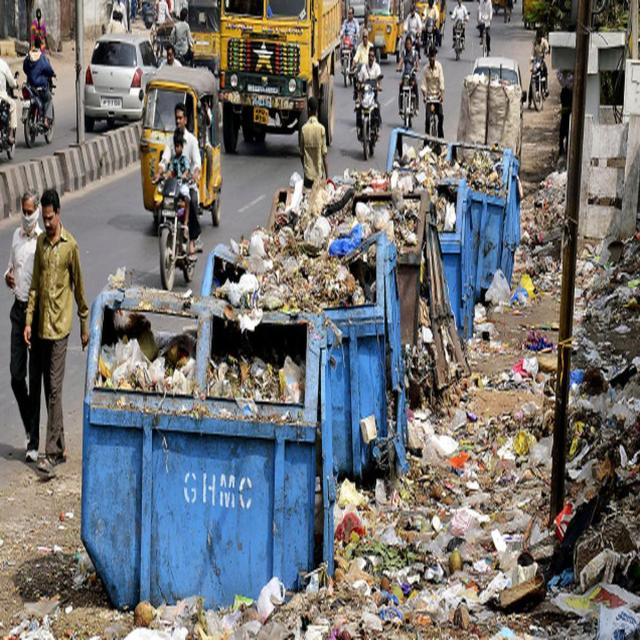garbage: (9, 147, 638, 637), (202, 135, 520, 340), (97, 325, 306, 406)
